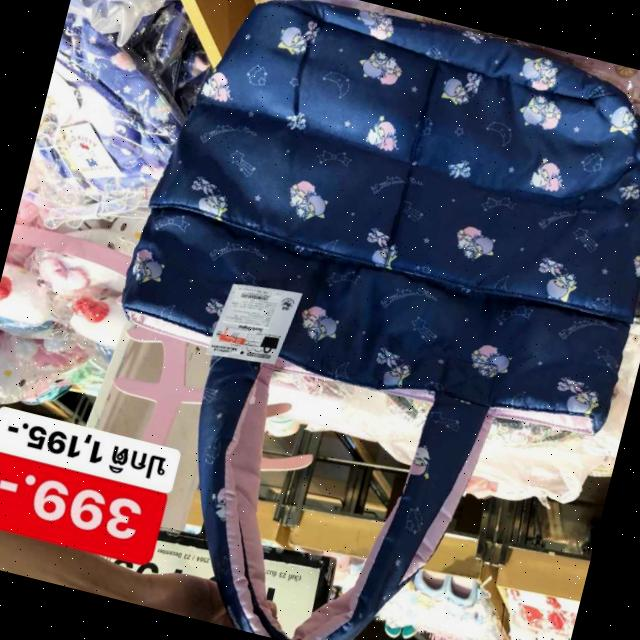Handbag: (96, 0, 640, 475)
